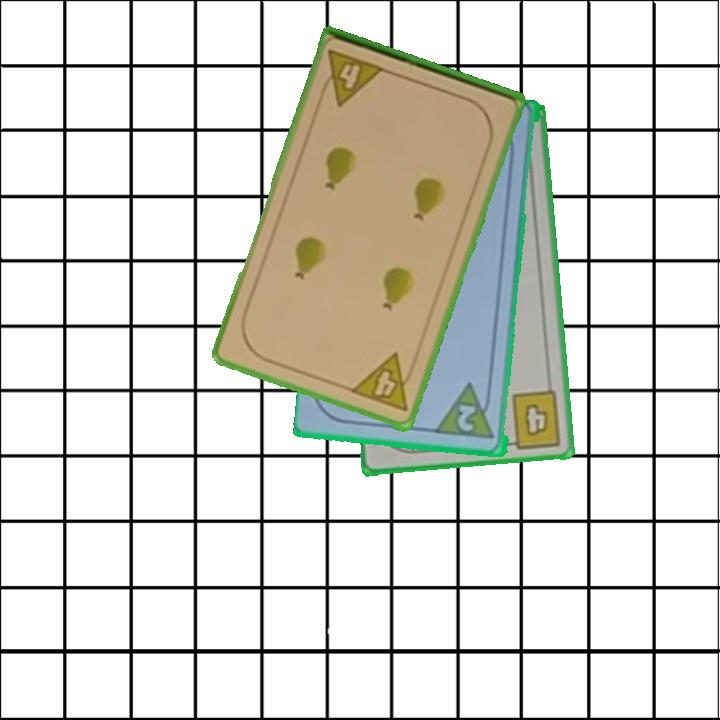2p: (454, 401, 479, 435)
4b: (500, 387, 565, 451)
4p: (347, 350, 420, 415), (315, 46, 388, 110)
